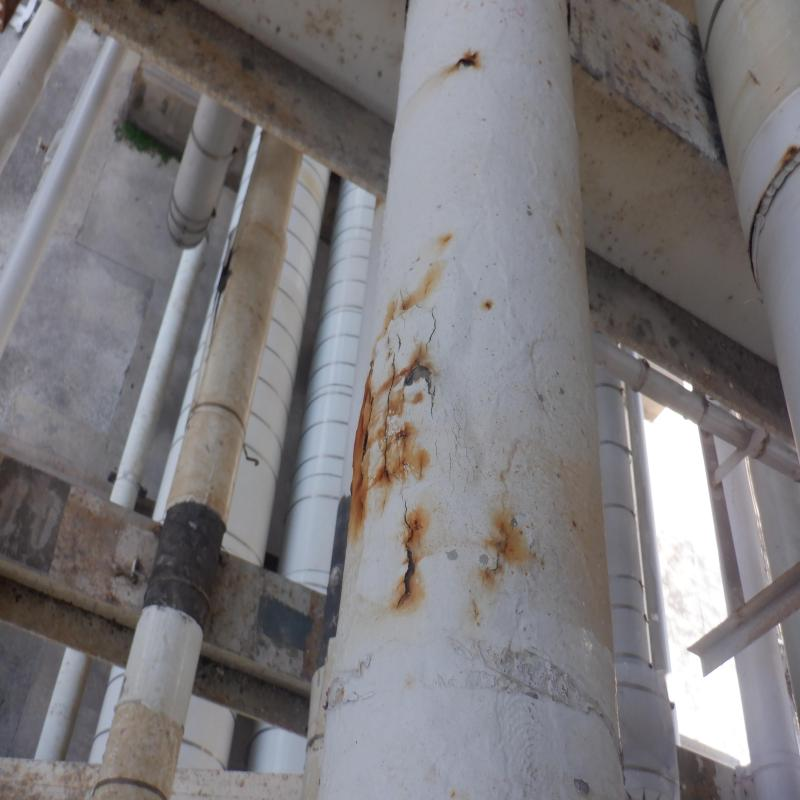corrosion: (378, 420, 426, 477), (351, 390, 370, 518), (496, 520, 524, 568), (398, 558, 420, 606), (400, 513, 427, 544), (451, 47, 480, 75), (484, 300, 495, 312)
